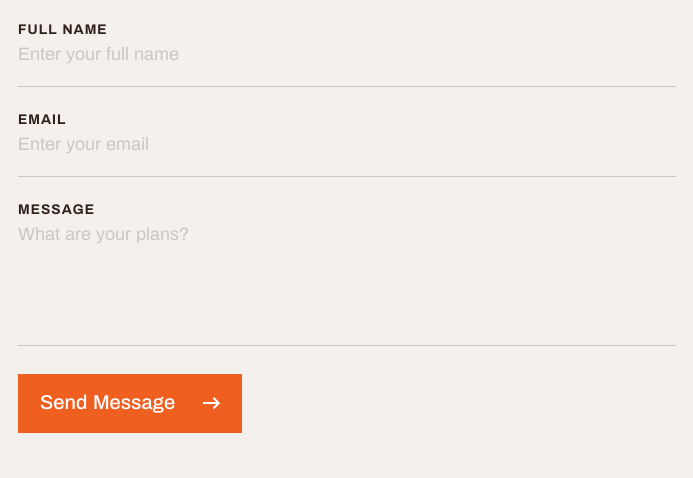
Scenario: Contact page › shows error if user tries to submit an empty form
Click the button "Send Message" at (130, 404), box [18,374,242,433]
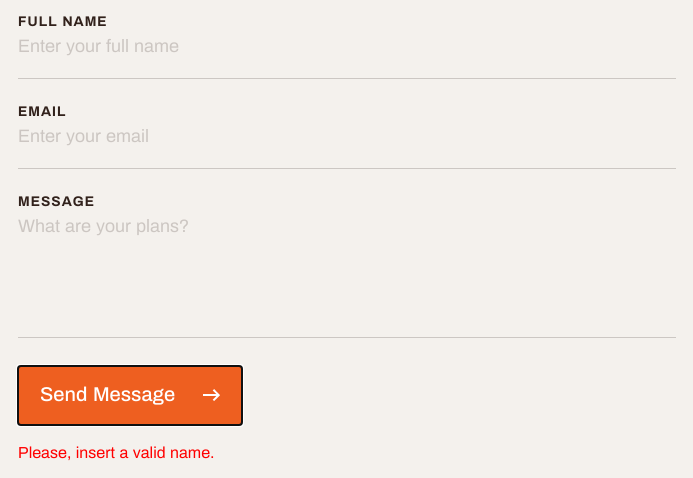
Expected: the text "Please, insert a valid name." is shown, [18,446,214,460]
